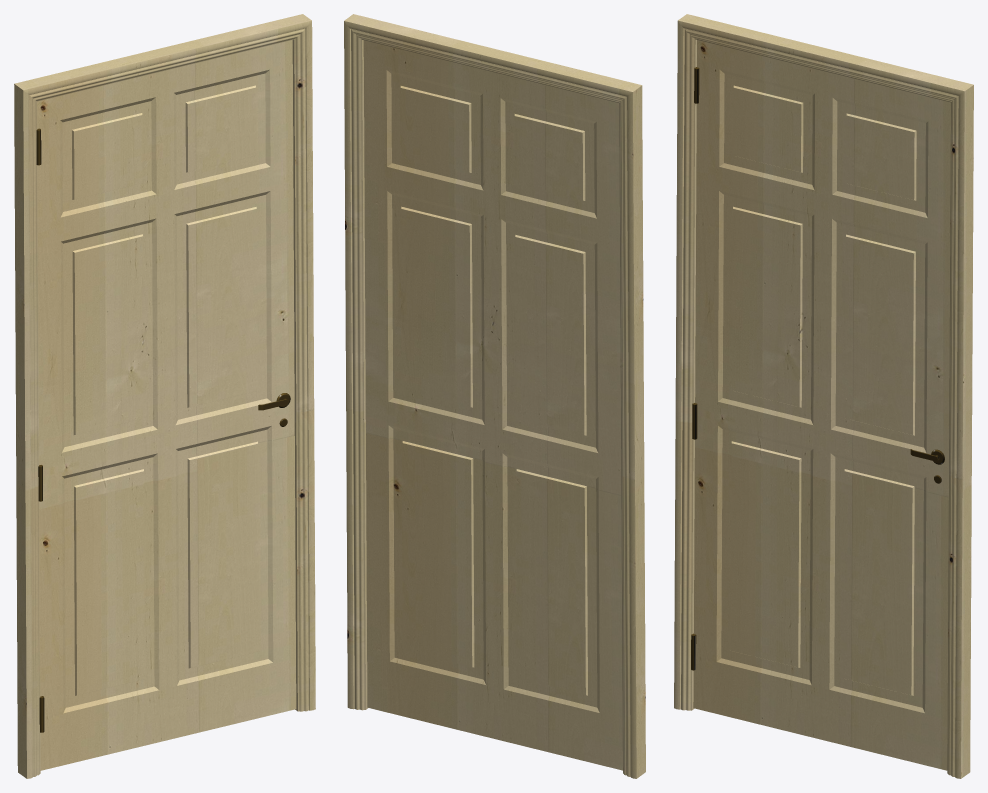
Rendered from Door1.obj.
The picture shows the model from 3 angles, left to right: view 1: azimuth 30°, elevation 25°; view 2: azimuth 150°, elevation 25°; view 3: azimuth 330°, elevation 25°; orthographic projection.
Visible parts, largest first — view 1: 10057_wooden_door_v1, 10057_wooden_door_frame_v1; view 2: 10057_wooden_door_v1, 10057_wooden_door_frame_v1; view 3: 10057_wooden_door_v1, 10057_wooden_door_frame_v1.
Boxes of the visible parts, x1,y1,x2,y2 form: 10057_wooden_door_v1: (36,40,296,770); 10057_wooden_door_frame_v1: (14,14,315,778); 10057_wooden_door_v1: (363,40,622,770); 10057_wooden_door_frame_v1: (344,14,645,778); 10057_wooden_door_v1: (691,40,950,770); 10057_wooden_door_frame_v1: (674,14,973,778).
Bounding box in the file's own units: 90.99 × 207 × 7.95.
1 material, 1 textured.
